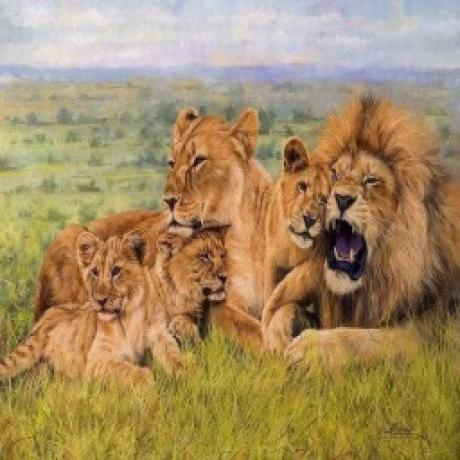Lion: (323, 94, 460, 364), (162, 99, 280, 332), (0, 229, 183, 375), (263, 136, 326, 286), (164, 224, 235, 315)
